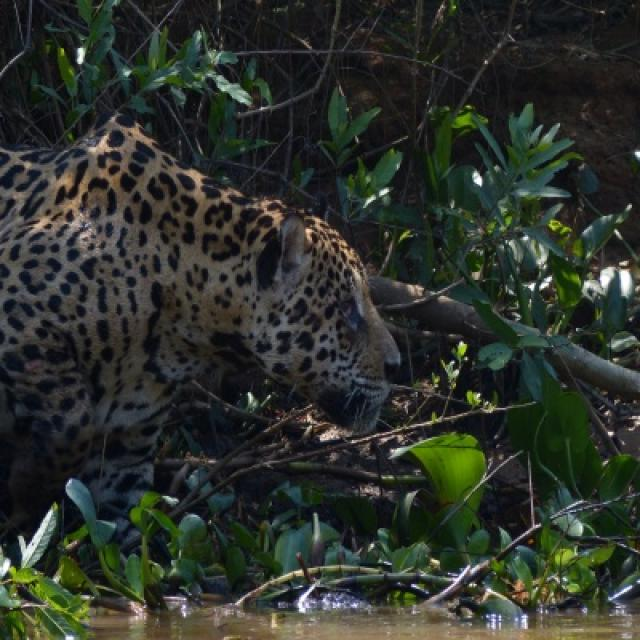Jaguar: (0, 120, 406, 562)
